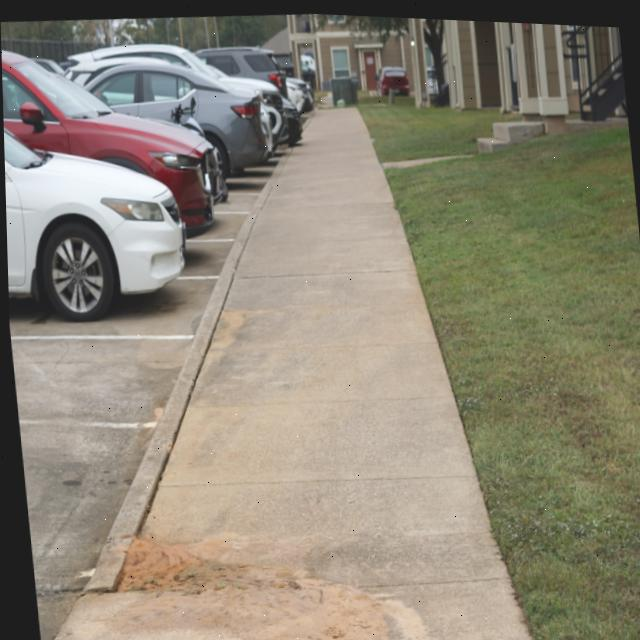Automobile: (1, 50, 214, 233), (3, 127, 182, 321), (65, 43, 267, 173), (68, 42, 227, 77), (198, 46, 285, 82), (216, 67, 277, 91), (378, 62, 409, 99), (285, 74, 313, 111), (260, 100, 282, 145)
Obstacle: (330, 73, 356, 103)
Road: (7, 165, 270, 640)
Sidewalk: (49, 105, 528, 640)
